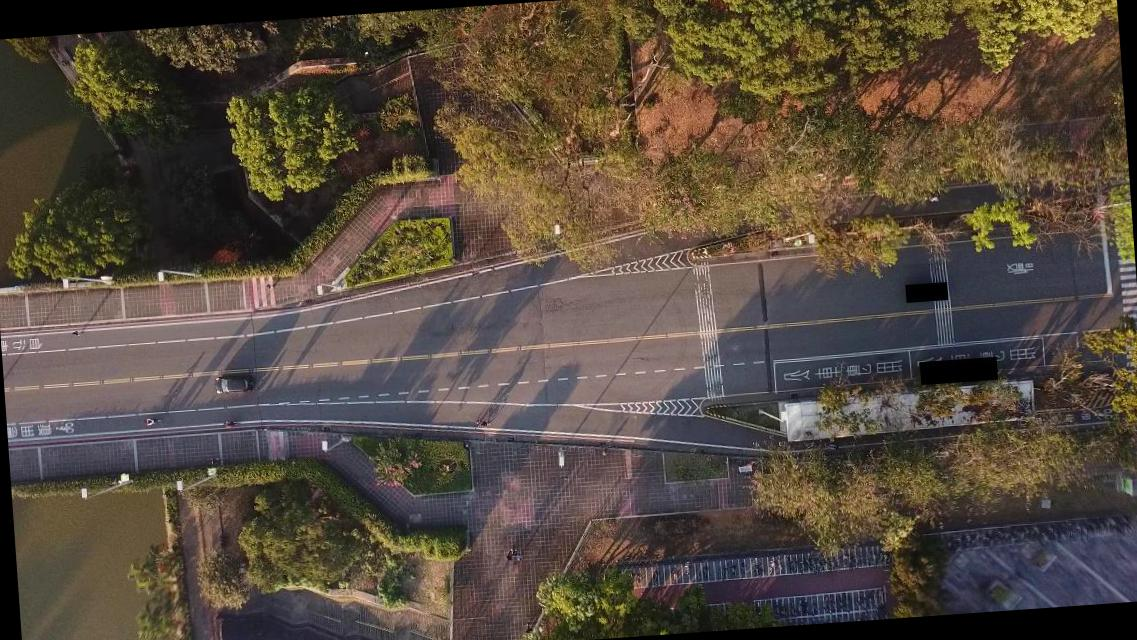vehicle: (215, 373, 256, 394)
